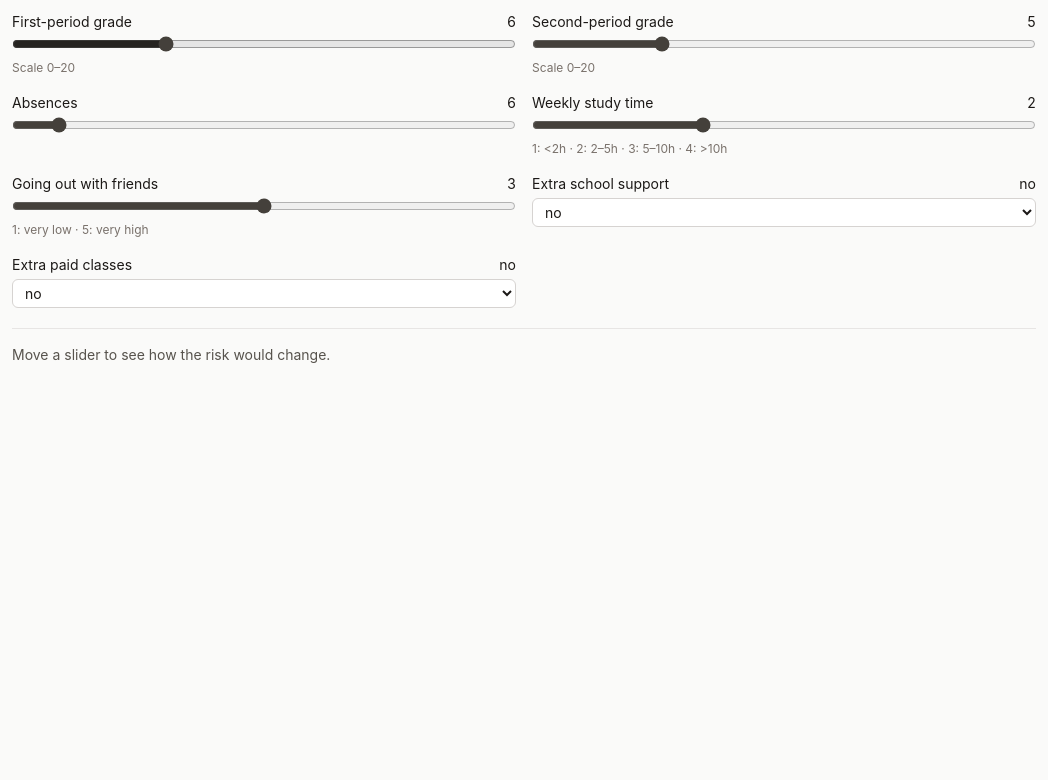
Scenario: WhatIfPanel › sends only the changed fields and shows the score before and after
This screenshot has width=1048, height=780.
Set the slider labelled "Second-period grade 5 Scale 0–20" to "15" at (906, 44), box [532,36,1036,52]
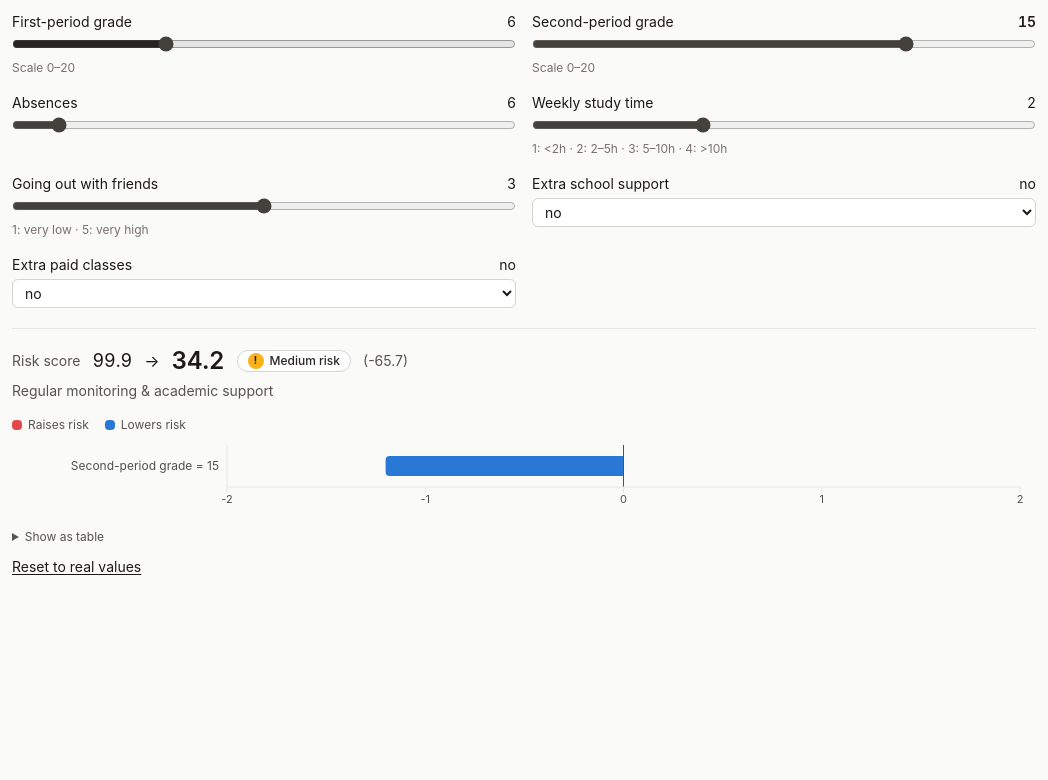
Expected: the element with test id "what-if-result" shows "Medium risk", [270,353,340,368]
Expected: the element with test id "what-if-result" shows "(-65.7)", [368,352,403,369]
